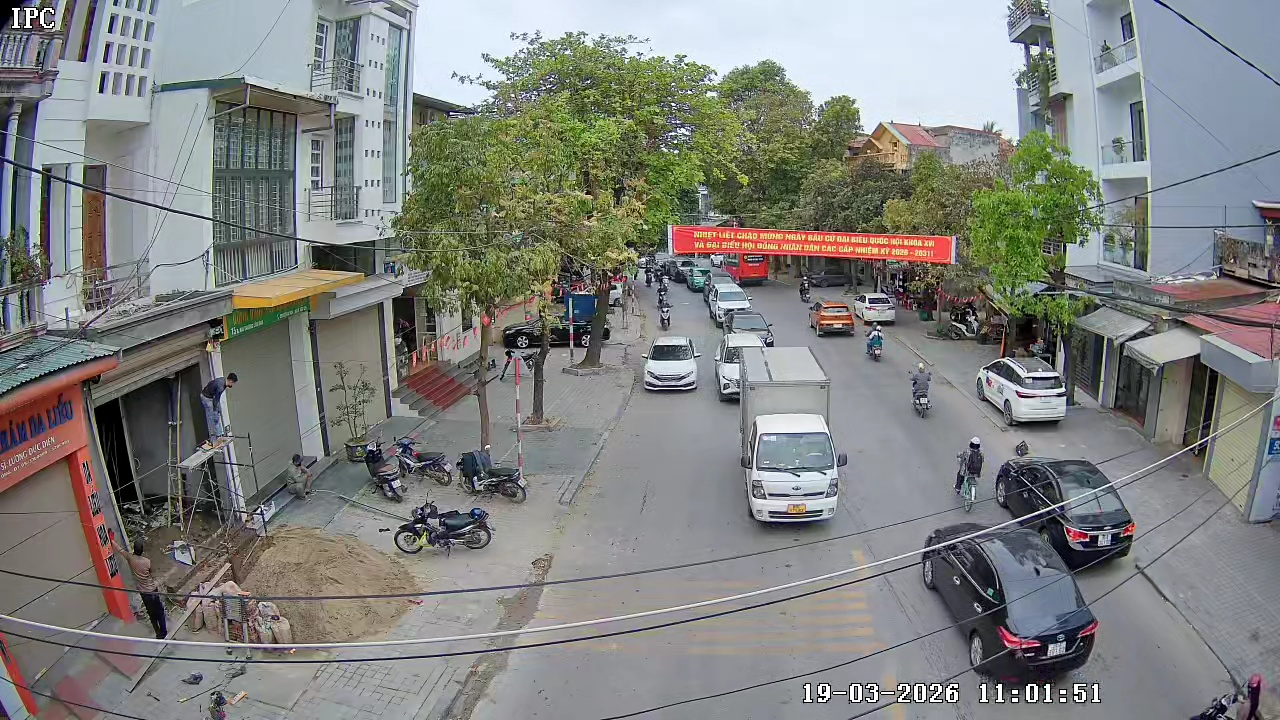bike: (952, 435, 986, 513)
car: (992, 458, 1136, 571), (1055, 484, 1136, 571), (975, 353, 1068, 428), (641, 333, 702, 394), (706, 285, 754, 331), (809, 299, 855, 338), (730, 316, 776, 349), (857, 291, 897, 328), (724, 255, 770, 286), (717, 356, 745, 404)
motorbike: (393, 496, 496, 555), (457, 438, 530, 502), (125, 577, 170, 640), (909, 363, 933, 418), (864, 324, 885, 362), (656, 296, 672, 332)
truck: (740, 344, 846, 525)
